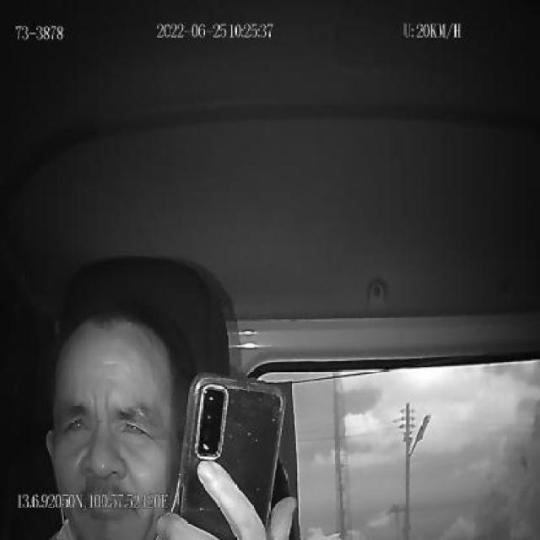phone: (178, 371, 286, 540)
